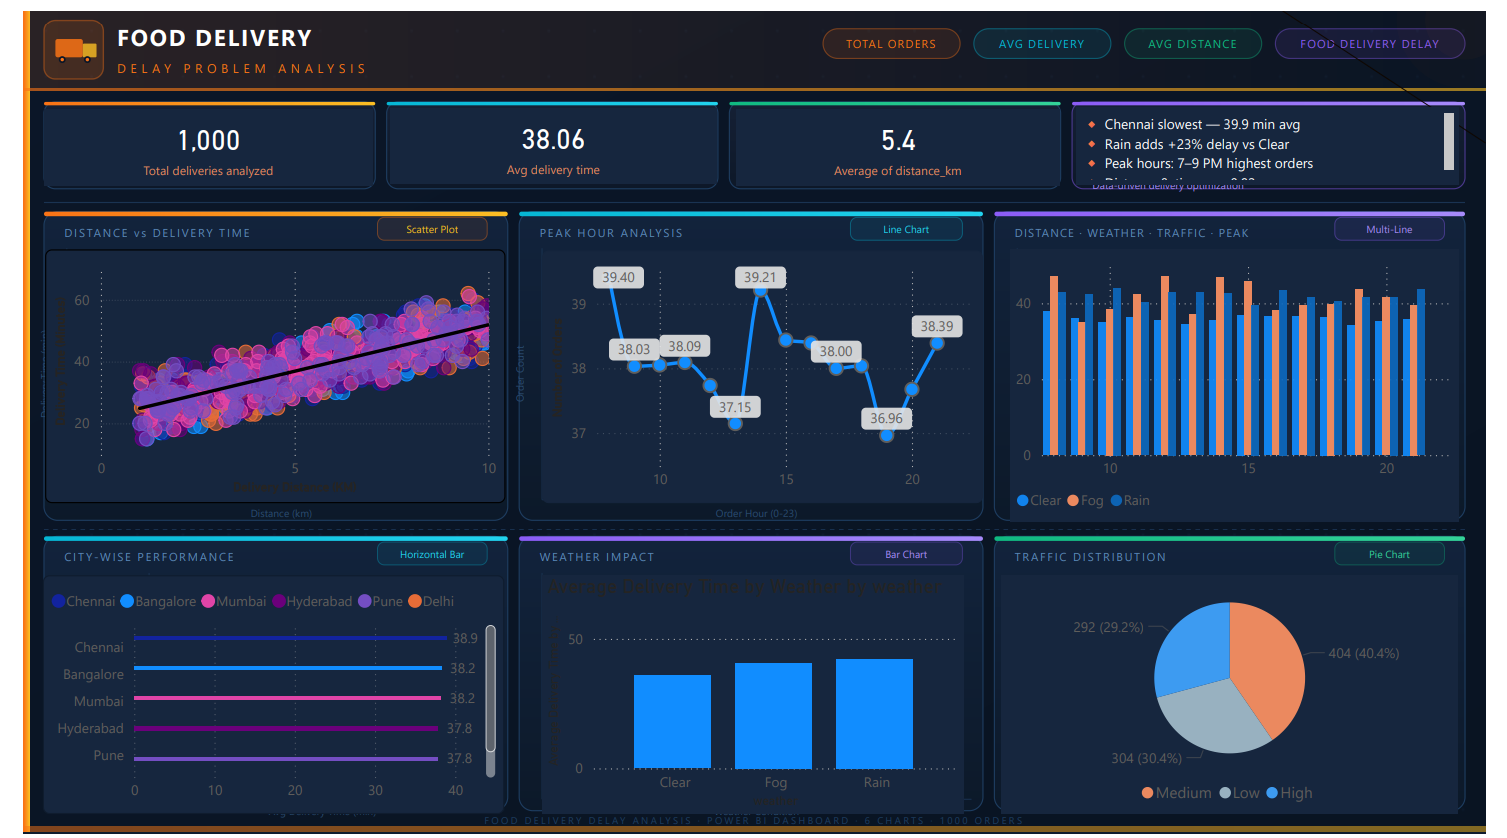

The dashboard page shown, as its layout file describes it:
{"tool":"powerbi","page":{"name":"Page 1","canvas":[1280,720],"ordinal":0},"visuals":[{"type":"lineChart","title":"Food Delivery Delay Analysis Dashboard","fields":{"Category":["public deliveries.Order Hour"],"Y":["Avg(public deliveries.delivery_time_min)"]},"box":[454.3,210,385.7,220.7],"z":0},{"type":"clusteredBarChart","title":"Average Delivery Time by City","fields":{"Y":["Avg(public deliveries.delivery_time_min)"],"Category":["public deliveries.city"],"Series":["public deliveries.city"]},"box":[16.9,494.4,404.2,208.5],"z":1000},{"type":"scatterChart","title":"Delivery Distance vs Delivery Time","fields":{"X":["public deliveries.distance_km"],"Y":["public deliveries.delivery_time_min"],"Series":["public deliveries.city"]},"box":[19.3,209.3,402.9,221.4],"z":2000},{"type":"card","title":"Total Orders","fields":{"Values":["CountNonNull(public deliveries.order_id)"]},"box":[18,86,288,67],"z":3000},{"type":"card","fields":{"Values":["Avg(public deliveries.delivery_time_min)"]},"box":[321,86,286,66],"z":4000},{"type":"card","fields":{"Values":["Avg(public deliveries.distance_km)"]},"box":[624,86,283,67],"z":5000},{"type":"pieChart","fields":{"Category":["public deliveries.traffic_level"],"Y":["CountNonNull(public deliveries.order_id)"]},"box":[856.3,494.4,400,208.5],"z":6000},{"type":"clusteredColumnChart","fields":{"Category":["public deliveries.weather"],"Y":["Avg(public deliveries.delivery_time_min)"]},"box":[453.5,494.4,369,208.5],"z":7000},{"type":"clusteredColumnChart","fields":{"Y":["Avg(public deliveries.delivery_time_min)"],"Category":["public deliveries.Order Hour"],"Series":["public deliveries.weather"]},"box":[864,209,393,238],"z":8000},{"type":"textbox","box":[922.1,85.3,335.3,67.6],"z":9000}]}

Visuals, with their boxes in screenshot pixels (x1, y1, x2, y2), scaled from the page's 1280x720 canvas onto the 1507x838 screenshot:
"Food Delivery Delay Analysis Dashboard" lineChart: <region>535, 244, 989, 501</region>
"Average Delivery Time by City" clusteredBarChart: <region>20, 575, 496, 818</region>
"Delivery Distance vs Delivery Time" scatterChart: <region>23, 244, 497, 501</region>
"Total Orders" card: <region>21, 100, 360, 178</region>
card - Avg(public deliveries.delivery_time_min): <region>378, 100, 715, 177</region>
card - Avg(public deliveries.distance_km): <region>735, 100, 1068, 178</region>
pieChart - public deliveries.traffic_level x CountNonNull(public deliveries.order_id): <region>1008, 575, 1479, 818</region>
clusteredColumnChart - public deliveries.weather x Avg(public deliveries.delivery_time_min): <region>534, 575, 968, 818</region>
clusteredColumnChart - Avg(public deliveries.delivery_time_min) x public deliveries.Order Hour: <region>1017, 243, 1480, 520</region>
textbox: <region>1086, 99, 1480, 178</region>
